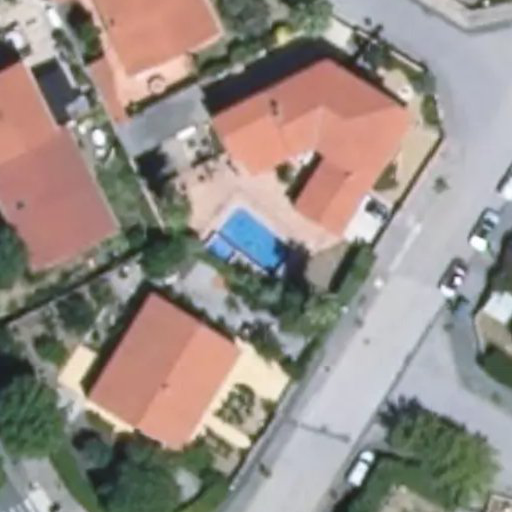pool: (217, 232, 295, 249)
